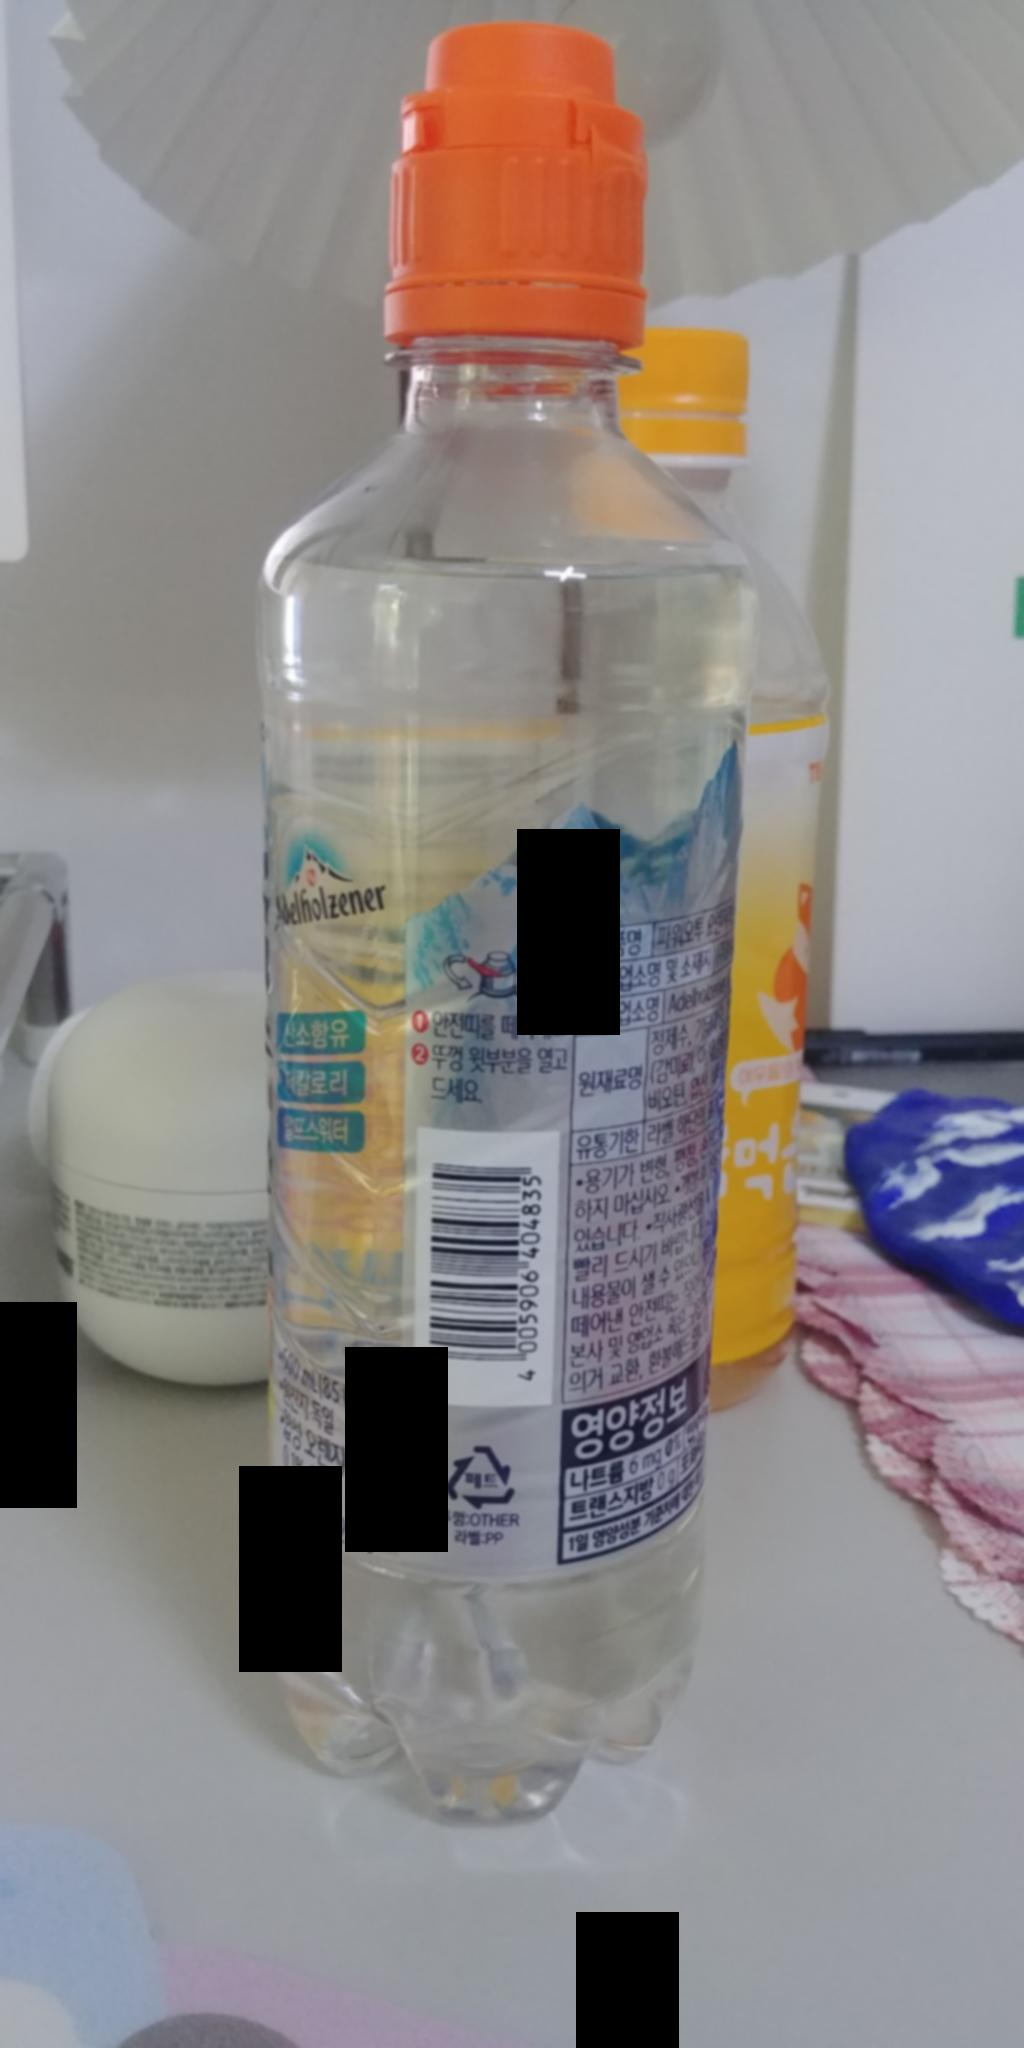powerO2_orange: (208, 14, 795, 1830)
